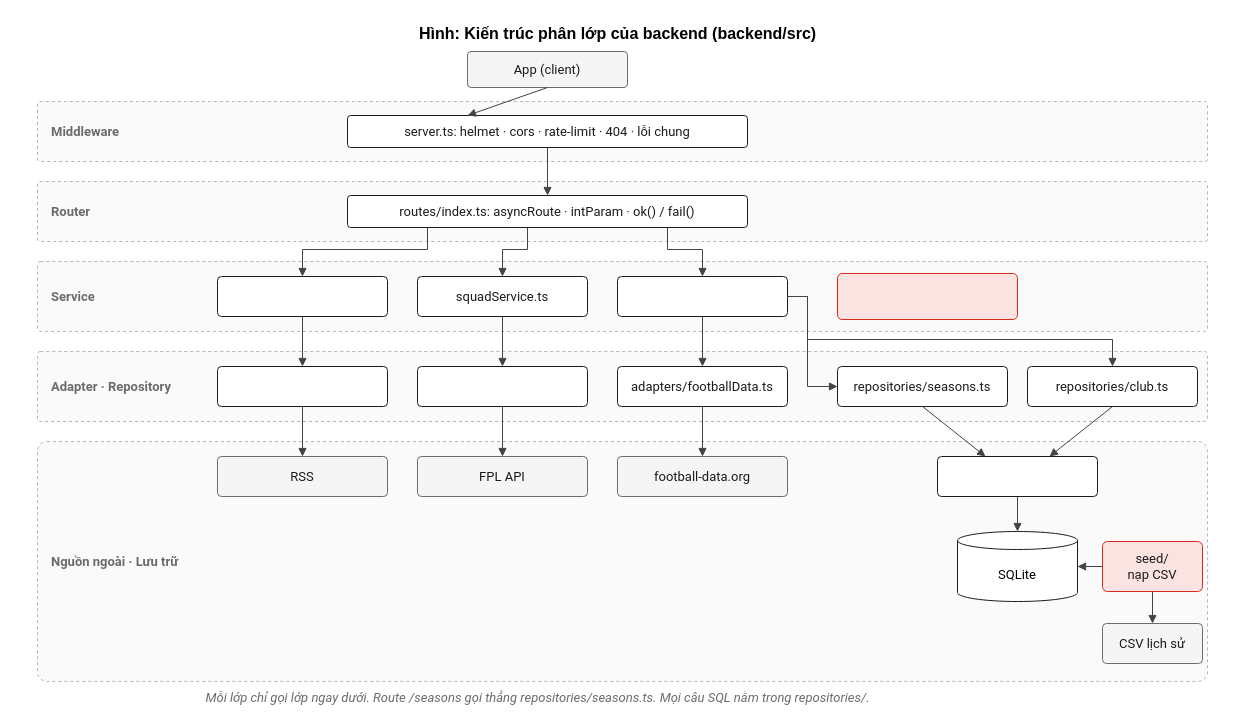
Some shapes in this 1234 by 724 pixel diagram are drawn without their labels. The shapes that lost their labels are listed below. From the top down, each one's centre as x and y in pixels, then its label:
At point (302, 296): "newsService.ts".
At point (702, 296): "clubService.ts".
At point (927, 296): "lib/cache.ts — cached() (cả 3 service dùng)".
At point (302, 386): "adapters/rss.ts".
At point (502, 386): "adapters/fpl.ts".
At point (1017, 476): "repositories/db.ts".
